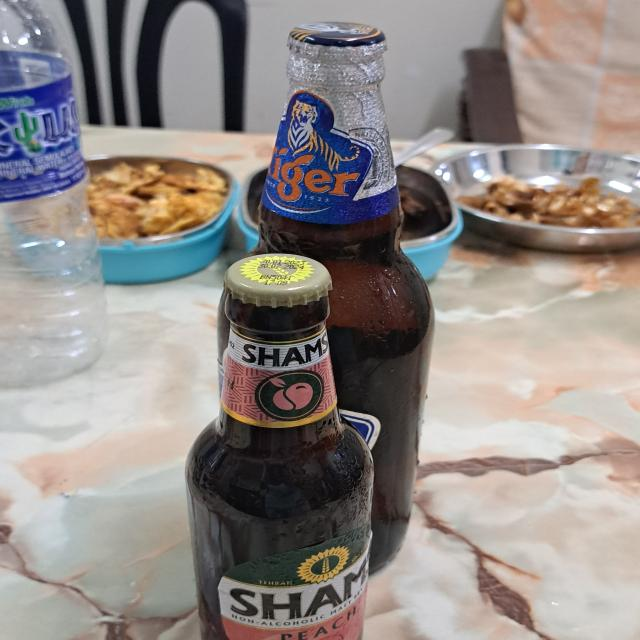glass bottle: (261, 22, 431, 580), (187, 251, 370, 640)
plastic bottle: (0, 0, 108, 388)
